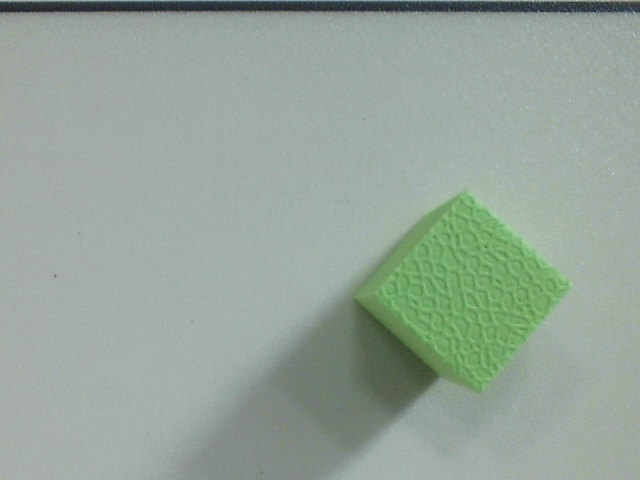greencube: (349, 188, 587, 400)
